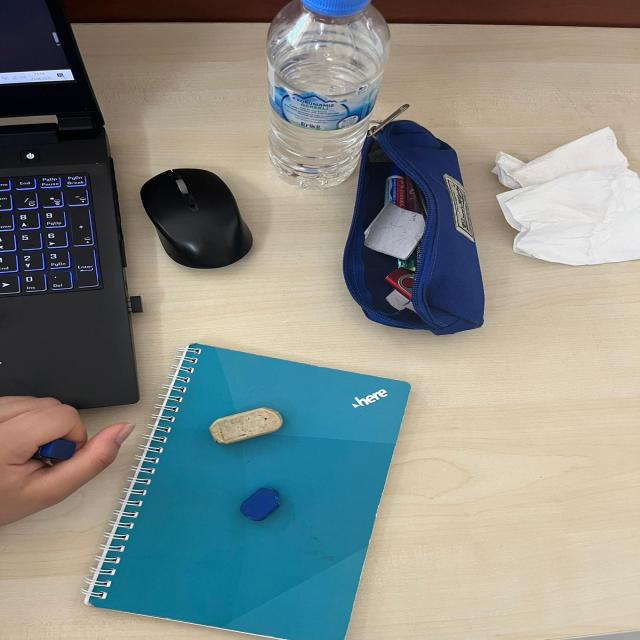eraser: (201, 401, 296, 449), (229, 481, 296, 525), (36, 437, 91, 467)
